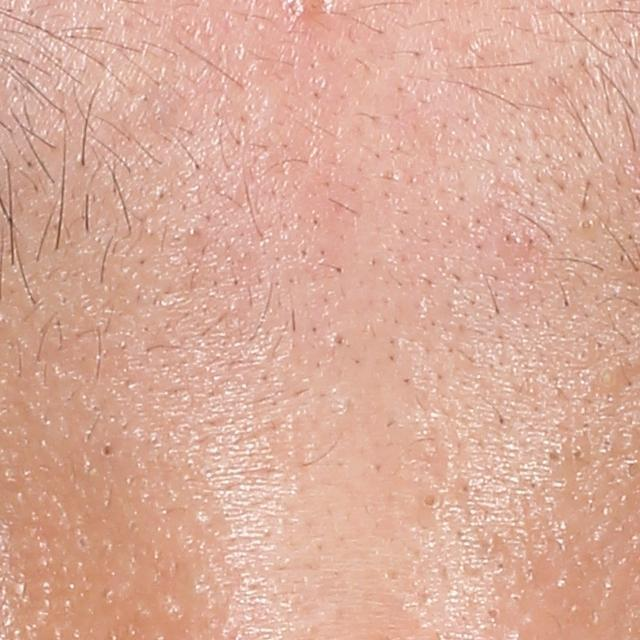comedo: (96, 439, 117, 463), (421, 491, 441, 510), (575, 215, 598, 231)
